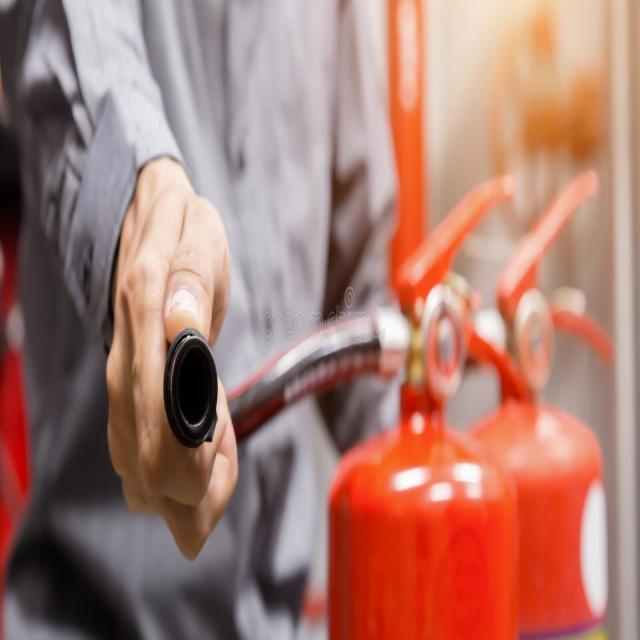fire_extinguisher: (160, 165, 528, 639)
